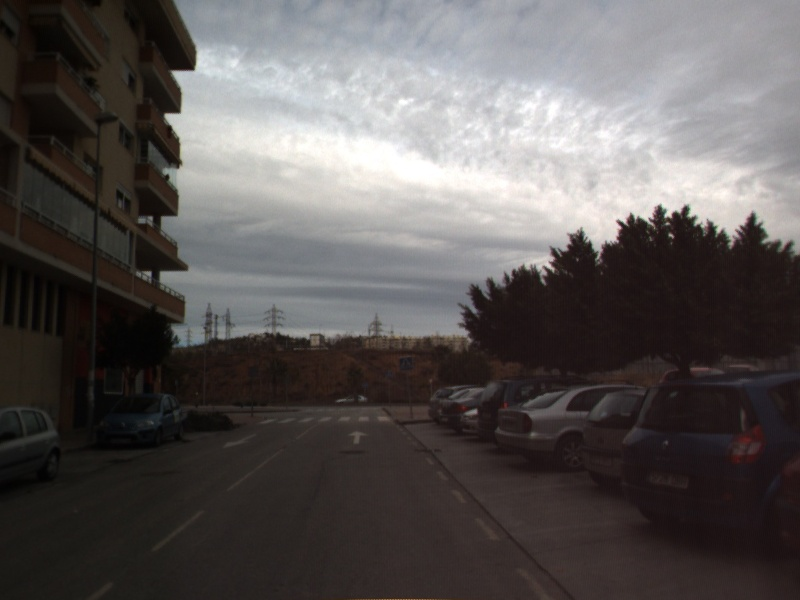STRAIGHT: (346, 428, 371, 446)
